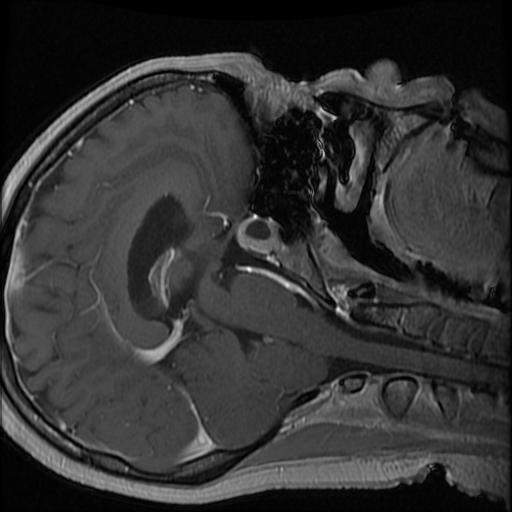pituitary tumour: (237, 215, 279, 254)
